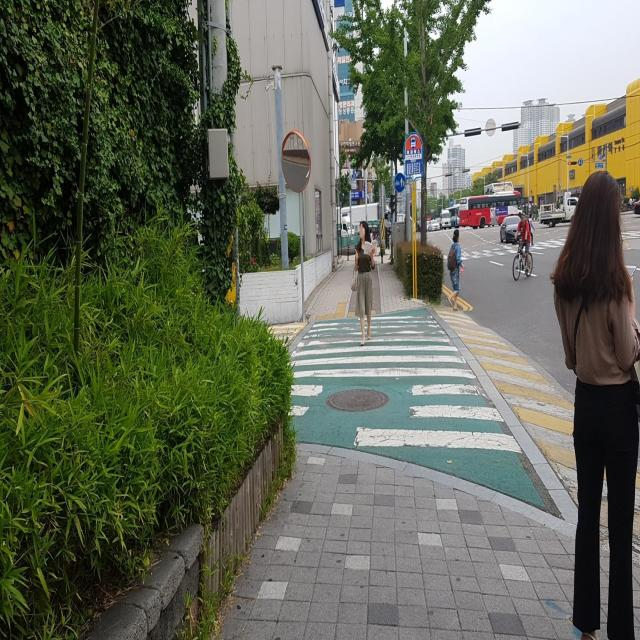횡단보도: (284, 314, 524, 454), (448, 240, 561, 262)
